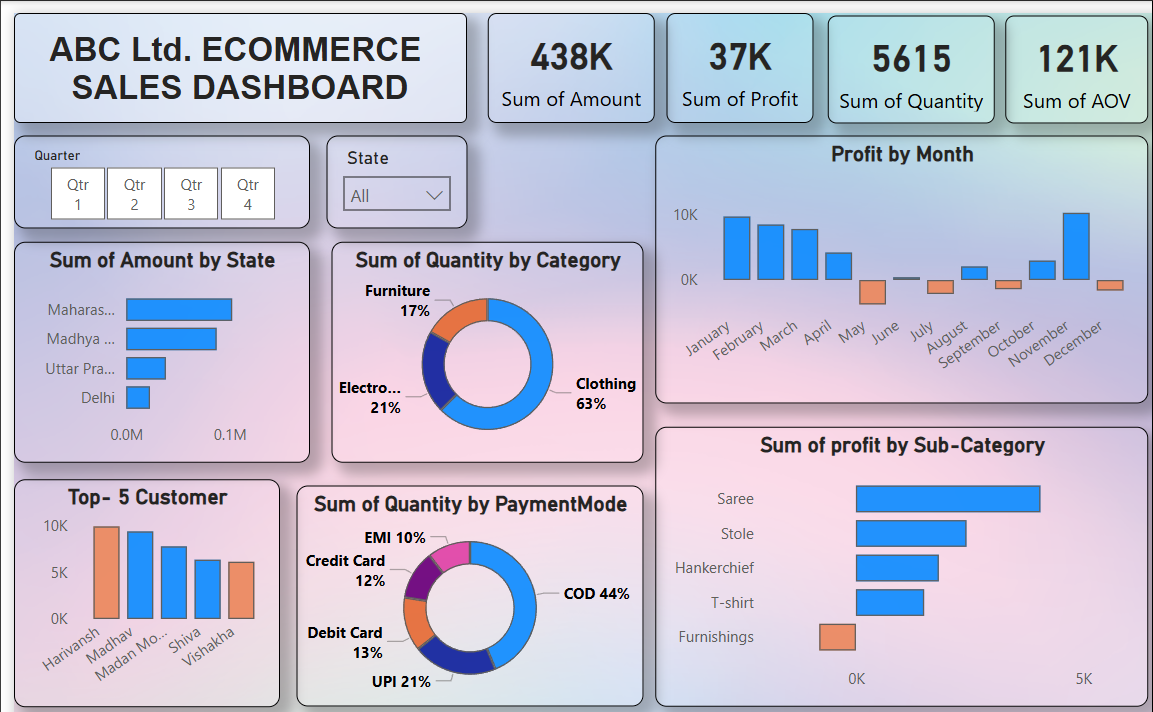

The page's visual inventory and layout, read from the dashboard file:
{"tool":"powerbi","page":{"name":"Sales Dashboard","canvas":[1280,720],"ordinal":0},"visuals":[{"type":"textbox","box":[0,0,363,88],"z":0},{"type":"columnChart","title":"Profit by Month","fields":{"Category":["Orders.Order Date.Variation.Date Hierarchy.Month"],"Y":["Details.Profit"]},"box":[513,98,395,214],"z":1000},{"type":"barChart","title":"Sum of profit by Sub-Category","fields":{"Category":["Details.Sub-Category"],"Y":["Details.Profit"]},"box":[513,331,395,224],"z":2000},{"type":"donutChart","fields":{"Category":["Details.Category"],"Y":["Details.Quantity"]},"box":[254,183,250,177],"z":3000},{"type":"donutChart","fields":{"Category":["Details.PaymentMode"],"Y":["Details.Quantity"]},"box":[226,378,278,177],"z":4000},{"type":"card","fields":{"Values":["Details.Amount"]},"box":[379,0,134,88],"z":5000},{"type":"card","fields":{"Values":["Details.Profit"]},"box":[522,0,118,88],"z":6000},{"type":"card","fields":{"Values":["Details.AOV"]},"box":[793,2,115,86],"z":7000},{"type":"card","fields":{"Values":["Details.Quantity"]},"box":[651,2,134,86],"z":8000},{"type":"barChart","title":"Sum of Amount by State","fields":{"Category":["Orders.State"],"Y":["Details.Amount"]},"box":[0,183,237,177],"z":9000},{"type":"columnChart","title":"Top- 5 Customer","fields":{"Category":["Orders.CustomerName"],"Y":["Details.Amount"]},"box":[0,373,213,182],"z":10000},{"type":"slicer","fields":{"Values":["Orders.Order Date.Variation.Date Hierarchy.Quarter"]},"box":[0,98,237,74],"z":10001},{"type":"slicer","fields":{"Values":["Orders.State"]},"box":[250,98,113,74],"z":10002}]}

Visuals, with their boxes on the page's 1280x720 design canvas (x1, y1, x2, y2). These are canvas units, not pixel positions in the 1153x712 screenshot, which may show the page scaled, cropped or inside an application window:
textbox: bbox(0, 0, 363, 88)
"Profit by Month" columnChart: bbox(513, 98, 908, 312)
"Sum of profit by Sub-Category" barChart: bbox(513, 331, 908, 555)
donutChart - Details.Category x Details.Quantity: bbox(254, 183, 504, 360)
donutChart - Details.PaymentMode x Details.Quantity: bbox(226, 378, 504, 555)
card - Details.Amount: bbox(379, 0, 513, 88)
card - Details.Profit: bbox(522, 0, 640, 88)
card - Details.AOV: bbox(793, 2, 908, 88)
card - Details.Quantity: bbox(651, 2, 785, 88)
"Sum of Amount by State" barChart: bbox(0, 183, 237, 360)
"Top- 5 Customer" columnChart: bbox(0, 373, 213, 555)
slicer - Orders.Order Date.Variation.Date Hierarchy.Quarter: bbox(0, 98, 237, 172)
slicer - Orders.State: bbox(250, 98, 363, 172)
